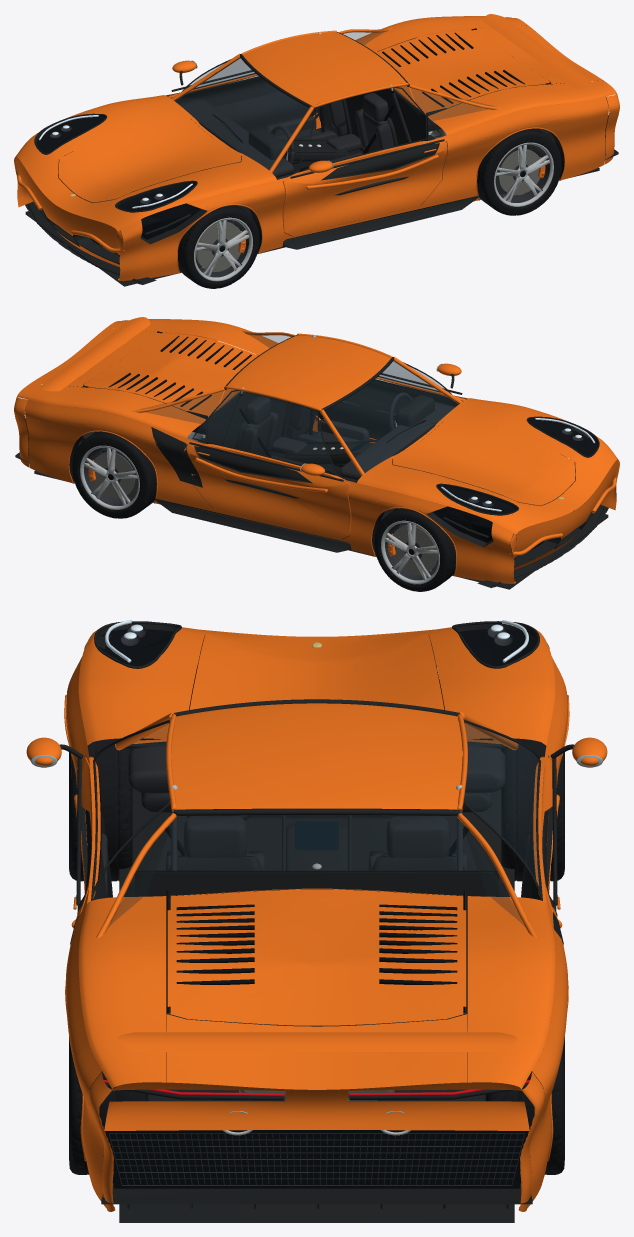
File: preview.glb
The picture shows the model from 3 angles, top to bottom: view 1: azimuth 30°, elevation 25°; view 2: azimuth 150°, elevation 25°; view 3: azimuth 270°, elevation 25°; orthographic projection. The views are drawn at different scales.
Visible parts, largest first — view 1: paint_0, paint_1, carbon_0, glass_0, leather_0, rubber_0, black_0, alloy_0, brake_0, dark_metal_0, light_0, tire_detail_0; view 2: paint_0, paint_1, carbon_0, glass_0, leather_0, rubber_0, black_0, alloy_0, brake_0, dark_metal_0, light_0, tire_detail_0; view 3: paint_0, paint_1, carbon_0, black_0, glass_0, rubber_0, leather_0, dark_metal_0, interior_0, screen_0, tail_0, light_0.
Part boxes in pixels (x1,y1,x2,y2): paint_0: (14, 16, 616, 280); paint_1: (14, 14, 619, 266); carbon_0: (25, 28, 618, 286); glass_0: (175, 29, 493, 169); leather_0: (178, 91, 408, 195); rubber_0: (58, 37, 564, 288); black_0: (36, 32, 608, 253); alloy_0: (194, 32, 553, 281); brake_0: (196, 149, 539, 271); dark_metal_0: (50, 92, 549, 277); light_0: (38, 115, 192, 208); tire_detail_0: (187, 134, 561, 287); paint_0: (17, 319, 619, 583); paint_1: (14, 317, 619, 569); carbon_0: (15, 331, 608, 589); glass_0: (140, 332, 458, 474); leather_0: (225, 392, 455, 498); rubber_0: (69, 361, 575, 591); black_0: (25, 335, 597, 556); alloy_0: (80, 335, 439, 584); brake_0: (94, 452, 437, 574); dark_metal_0: (84, 395, 583, 580); light_0: (441, 418, 595, 511); tire_detail_0: (72, 437, 446, 590); paint_0: (26, 633, 607, 1208); paint_1: (71, 627, 562, 1211); carbon_0: (59, 621, 574, 1222); black_0: (99, 629, 536, 1188); glass_0: (106, 722, 540, 927); rubber_0: (69, 636, 564, 1174); leather_0: (101, 745, 532, 898); dark_metal_0: (109, 626, 525, 1185); interior_0: (141, 792, 492, 812); screen_0: (295, 821, 338, 850); tail_0: (103, 1080, 530, 1096); light_0: (105, 620, 528, 662).
Size of the model in its own units: 4.54 by 1.2 by 2.24.
